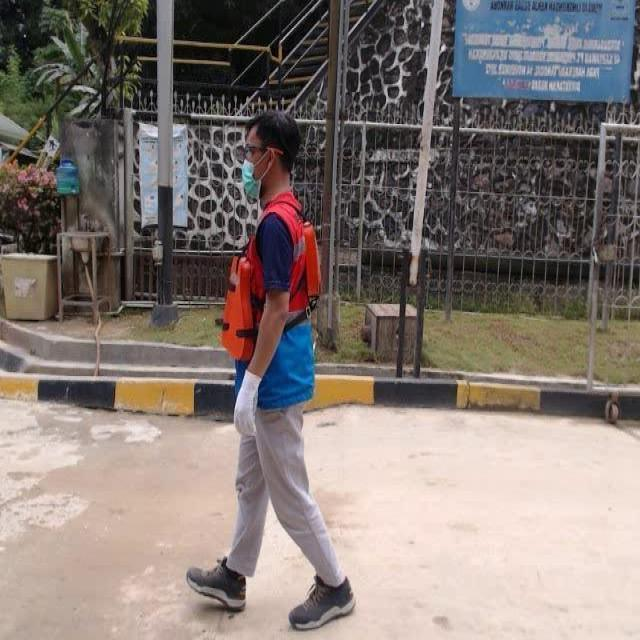gloves: (228, 368, 264, 437)
